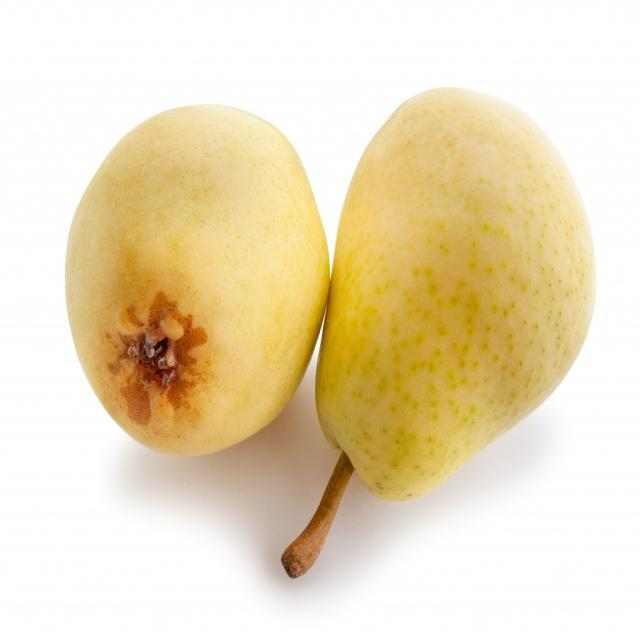Pear Ripe: (317, 88, 594, 498), (66, 106, 329, 453)
